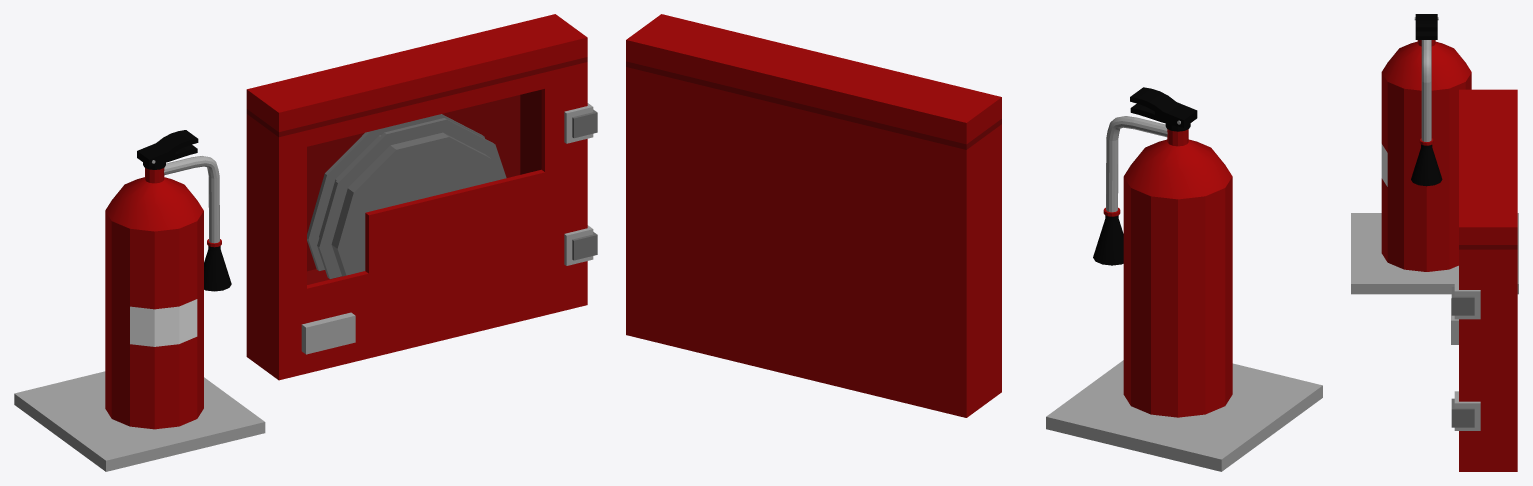
File: extincteur.fbx
The picture shows the model from 3 angles, left to right: view 1: azimuth 30°, elevation 25°; view 2: azimuth 150°, elevation 25°; view 3: azimuth 270°, elevation 25°; orthographic projection. The views are drawn at different scales.
Parts seen in each view (by area): view 1: extincteur (×2); view 2: extincteur (×2); view 3: extincteur (×2).
Part boxes in pixels (x1,y1,x2,y2): extincteur (×2): (14,14,597,471); extincteur (×2): (626,14,1322,471); extincteur (×2): (1351,14,1518,471).
Size of the model in its own units: 3.01 by 1.5 by 0.8753.
